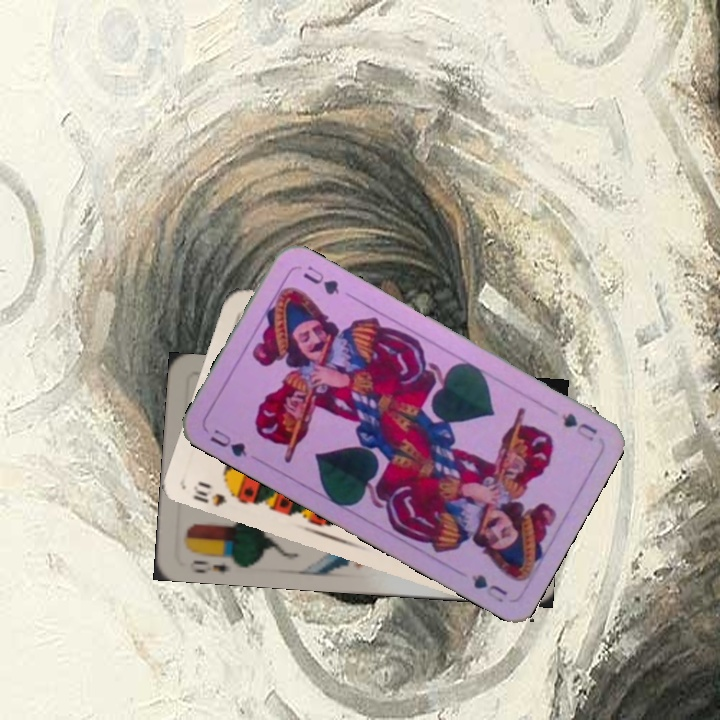EO: (189, 549, 239, 575)
GU: (206, 424, 250, 460), (557, 409, 600, 444)
S10: (189, 477, 243, 509)
